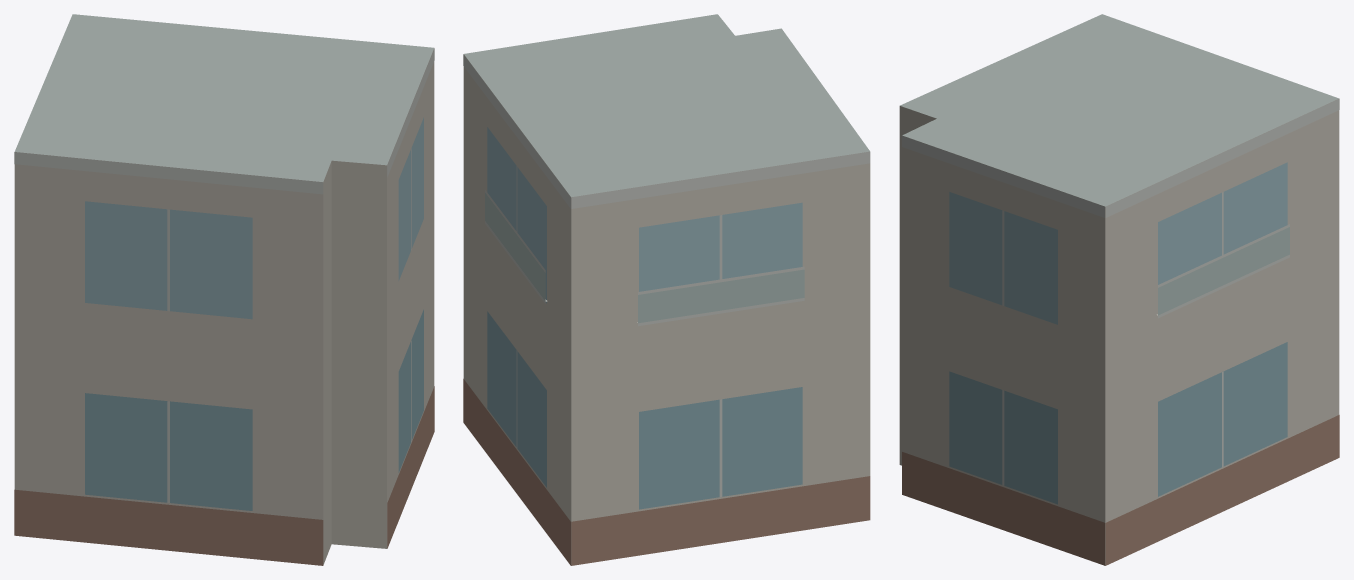
File: survey-upis-33008928.glb
3 renders of one model, left to right at view 1: azimuth 30°, elevation 25°; view 2: azimuth 150°, elevation 25°; view 3: azimuth 270°, elevation 25°, orthographic. The views are drawn at different scales.
Parts seen in each view (by area): view 1: survey-upis-33008928.tmp; view 2: survey-upis-33008928.tmp; view 3: survey-upis-33008928.tmp.
Boxes of the visible parts, bbox=[...] form: survey-upis-33008928.tmp: bbox=[14, 14, 434, 565]; survey-upis-33008928.tmp: bbox=[463, 14, 870, 565]; survey-upis-33008928.tmp: bbox=[899, 14, 1339, 565].
Size of the model in its own units: 8.75 by 7.6 by 8.44.
